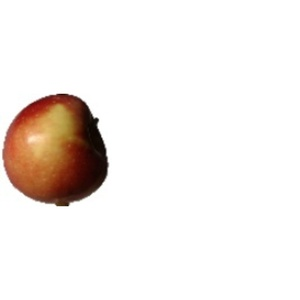maçã braeburn: (2, 90, 114, 203)
